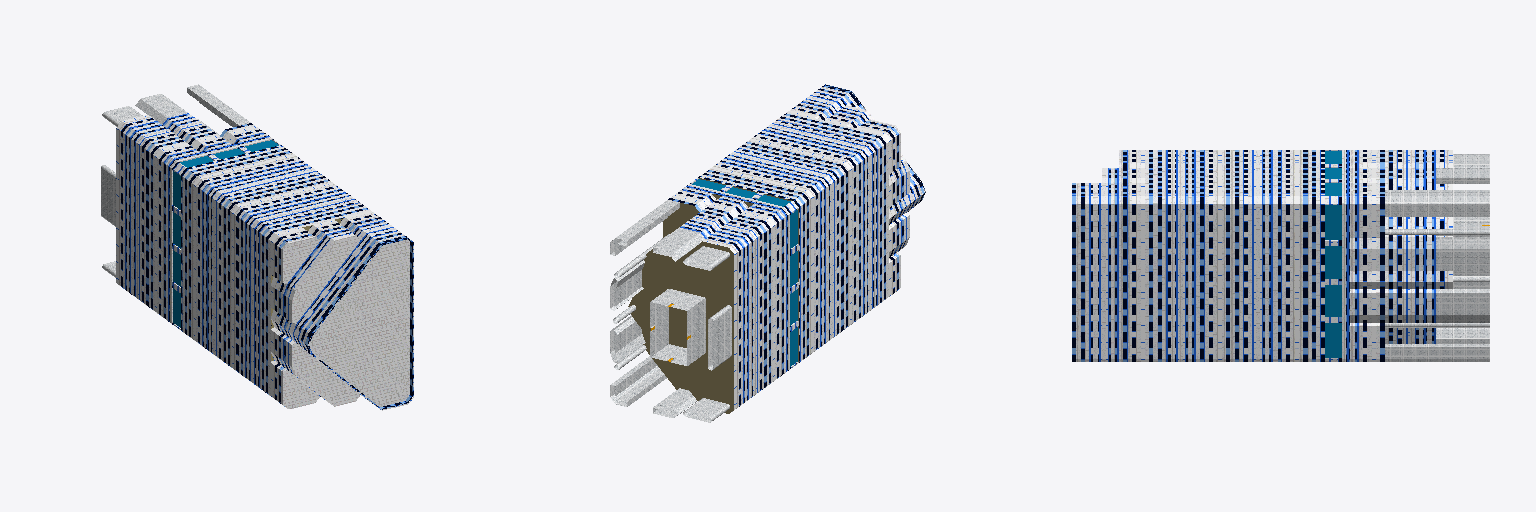
3 renders of one model, left to right at view 1: azimuth 30°, elevation 25°; view 2: azimuth 150°, elevation 25°; view 3: azimuth 270°, elevation 25°, orthographic.
Parts seen in each view (by area): view 1: Wall_01, Wall_1_01, Wall_1_02, Glaz_01, wall_2_03, wall_2_02, wall_2_04; view 2: Wall_01, Wall_1_01, slab_1_01, wall_2_04, wall_2_02, wall_2_03, wall_2_05, Glaz_01, wall_2_06; view 3: Wall_01, Wall_1_01, wall_2_02, wall_2_04, Glaz_01, wall_2_05.
Part boxes in pixels (x1,y1,x2,y2): Wall_01: (116, 113, 412, 409); Wall_1_01: (119, 115, 404, 405); Wall_1_02: (172, 139, 409, 408); Glaz_01: (173, 140, 278, 327); wall_2_03: (101, 106, 142, 277); wall_2_02: (187, 84, 250, 135); wall_2_04: (135, 94, 187, 124); Wall_01: (668, 85, 924, 411); Wall_1_01: (671, 87, 922, 408); slab_1_01: (628, 178, 798, 413); wall_2_04: (610, 227, 704, 417); wall_2_02: (610, 200, 679, 406); wall_2_03: (683, 246, 731, 422); wall_2_05: (655, 289, 705, 362); Glaz_01: (692, 179, 797, 366); wall_2_06: (650, 299, 691, 365); Wall_01: (1072, 150, 1452, 361); Wall_1_01: (1076, 150, 1448, 361); wall_2_02: (1385, 190, 1489, 361); wall_2_04: (1436, 168, 1489, 343); Glaz_01: (1325, 151, 1341, 357); wall_2_05: (1453, 217, 1480, 288).
Size of the model in its own units: 1714 by 2571 by 5880.
6 materials, 3 textured.